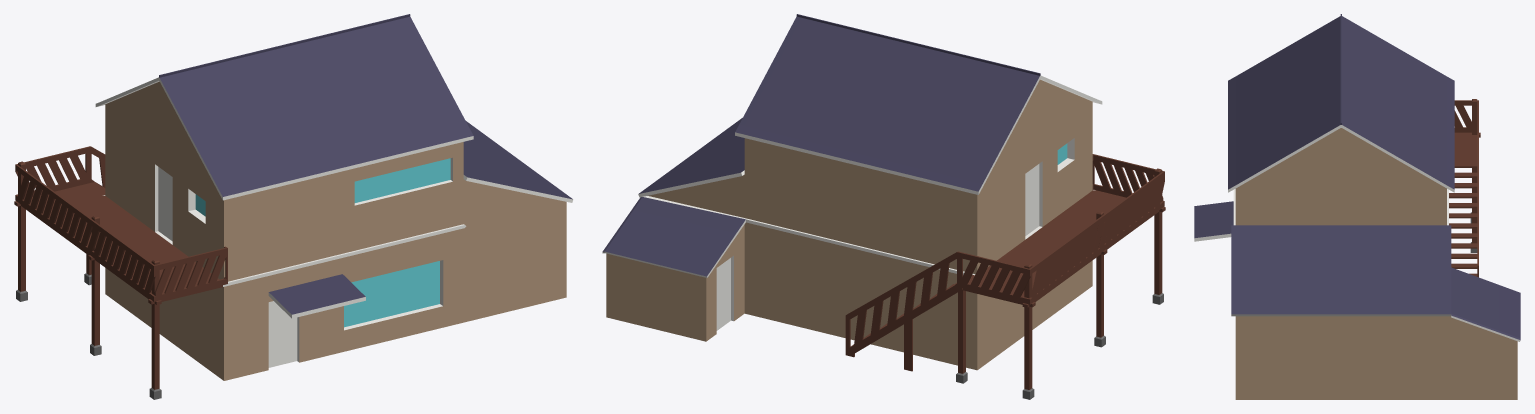
Rendered from Farmi_Teurastaja.fbx.
3 renders of one model, left to right at view 1: azimuth 30°, elevation 25°; view 2: azimuth 150°, elevation 25°; view 3: azimuth 270°, elevation 25°, orthographic. The views are drawn at different scales.
Visible parts, largest first — view 1: Teurastaja; view 2: Teurastaja; view 3: Teurastaja.
Boxes of the visible parts, x1,y1,x2,y2 form: Teurastaja: [14, 14, 573, 399]; Teurastaja: [602, 14, 1165, 399]; Teurastaja: [1194, 14, 1520, 399].
Bounding box in the file's own units: 1230 × 736 × 926.
